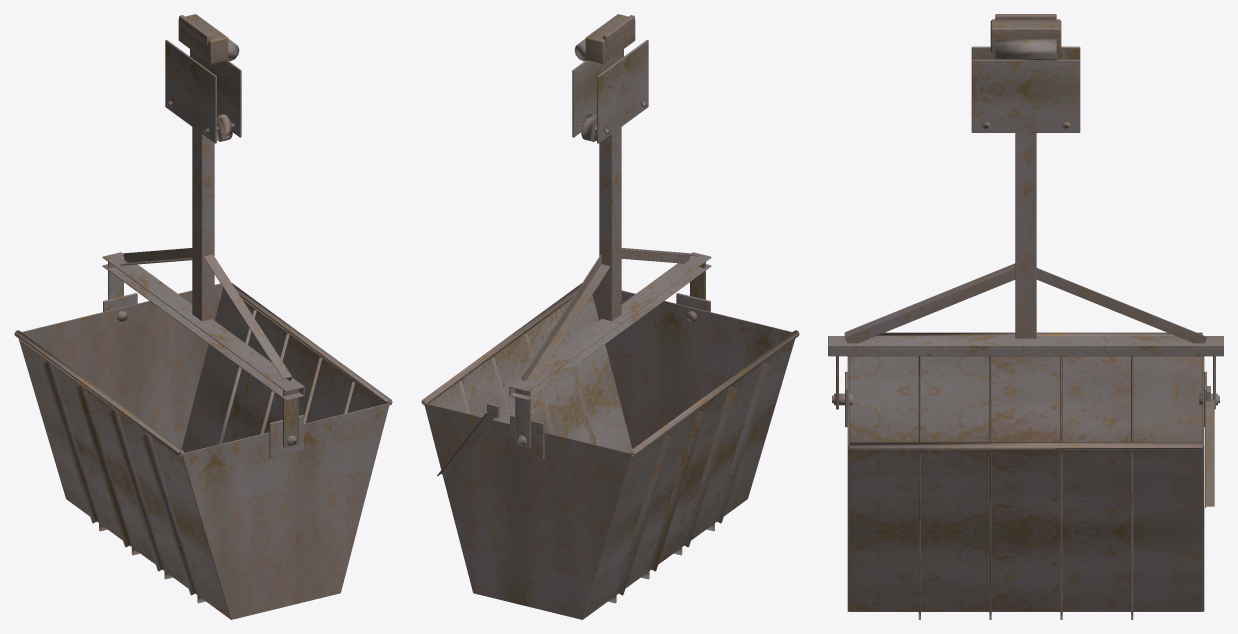
File: CablewayCoalBucket.fbx
The picture shows the model from 3 angles, left to right: view 1: azimuth 30°, elevation 25°; view 2: azimuth 150°, elevation 25°; view 3: azimuth 270°, elevation 25°; orthographic projection. The views are drawn at different scales.
Visible parts, largest first — view 1: CablewayCoalBucket; view 2: CablewayCoalBucket; view 3: CablewayCoalBucket.
Boxes of the visible parts, bbox=[...] form: CablewayCoalBucket: bbox=[14, 14, 392, 619]; CablewayCoalBucket: bbox=[421, 14, 799, 619]; CablewayCoalBucket: bbox=[828, 14, 1223, 619].
Bounding box in the file's own units: 1.17 × 2.68 × 1.68.
